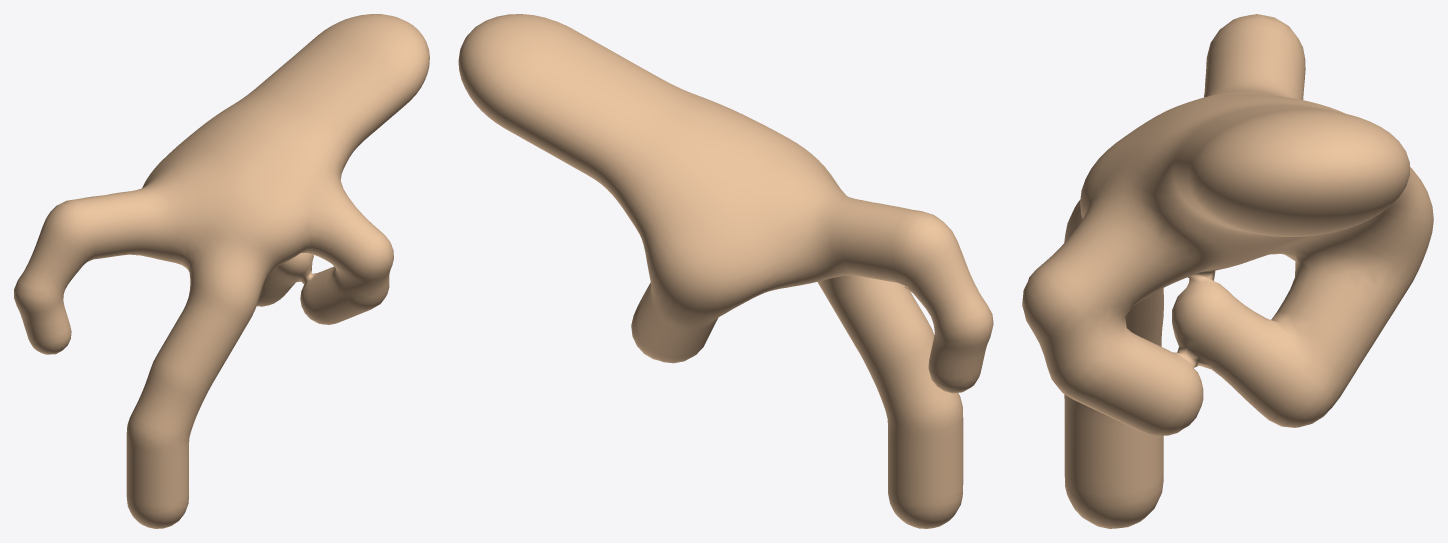
Rendered from 2doigts_up.glb.
The picture shows the model from 3 angles, left to right: view 1: azimuth 30°, elevation 25°; view 2: azimuth 150°, elevation 25°; view 3: azimuth 270°, elevation 25°; orthographic projection. The views are drawn at different scales.
Visible parts, largest first — view 1: Mball.012; view 2: Mball.012; view 3: Mball.012.
Part boxes in pixels (box(x1,y1,x2,y2)): Mball.012: box(14, 14, 429, 528); Mball.012: box(458, 14, 993, 528); Mball.012: box(1022, 14, 1433, 528).
Size of the model in its own units: 7.9 by 7.07 by 4.25.
